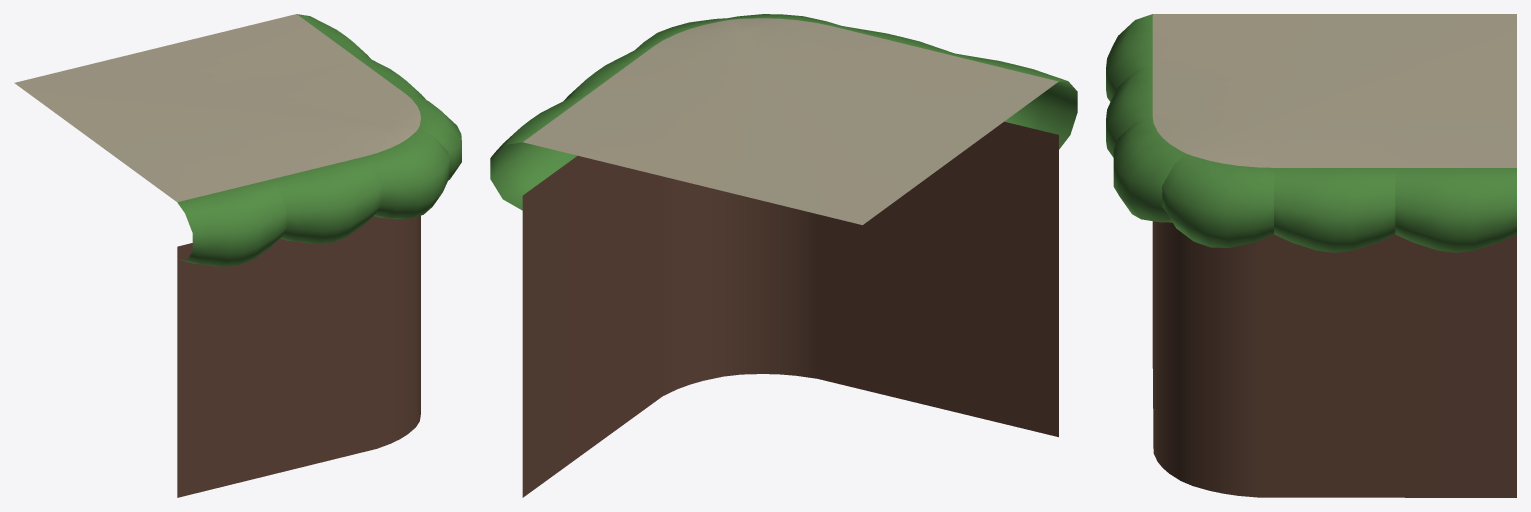
The model's file is ForestTile_OuterCorner.fbx.
3 renders of one model, left to right at view 1: azimuth 30°, elevation 25°; view 2: azimuth 150°, elevation 25°; view 3: azimuth 270°, elevation 25°, orthographic. The views are drawn at different scales.
Visible parts, largest first — view 1: ForestTile_OuterCorner; view 2: ForestTile_OuterCorner; view 3: ForestTile_OuterCorner.
Boxes of the visible parts, <box> form: ForestTile_OuterCorner: <box>14,14,461,497</box>; ForestTile_OuterCorner: <box>490,14,1077,497</box>; ForestTile_OuterCorner: <box>1106,14,1516,497</box>.
Size of the model in its own units: 101 by 90 by 101.
